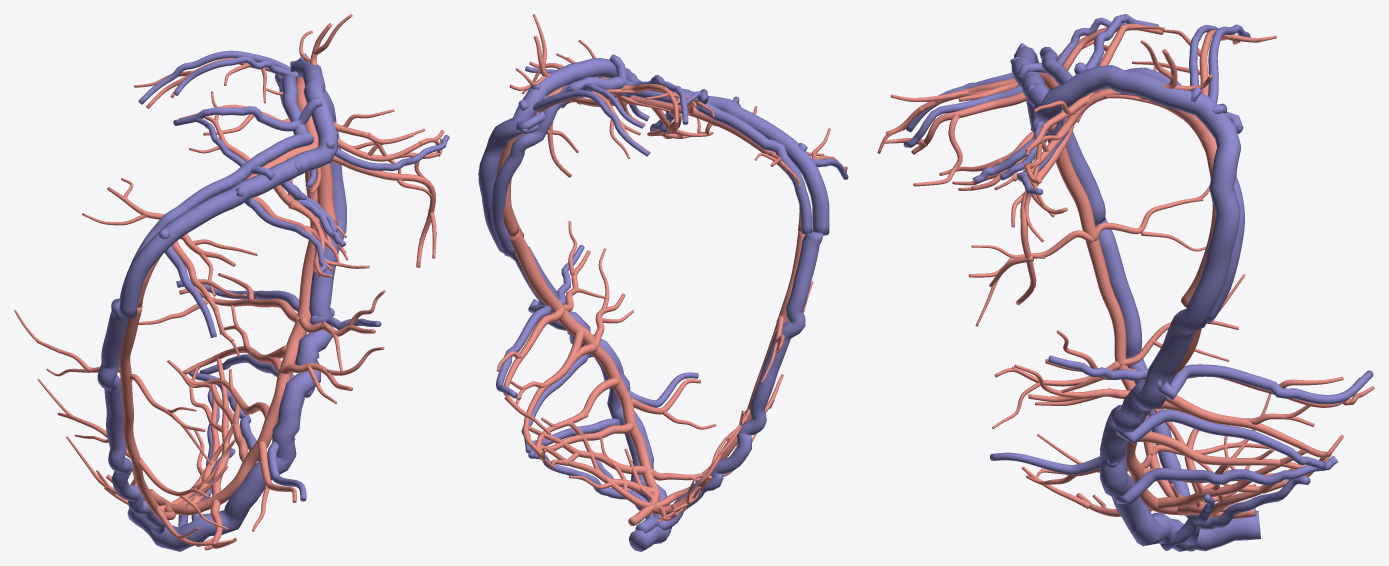
Rendered from vessels_10.glb.
3 renders of one model, left to right at view 1: azimuth 30°, elevation 25°; view 2: azimuth 150°, elevation 25°; view 3: azimuth 270°, elevation 25°, orthographic. The views are drawn at different scales.
Parts seen in each view (by area): view 1: Renderer Node; view 2: Renderer Node; view 3: Renderer Node.
Boxes of the visible parts, x1,y1,x2,y2 form: Renderer Node: [14, 14, 449, 551]; Renderer Node: [478, 14, 848, 551]; Renderer Node: [877, 14, 1374, 551].
Size of the model in its own units: 89.31 by 121 by 90.88.
